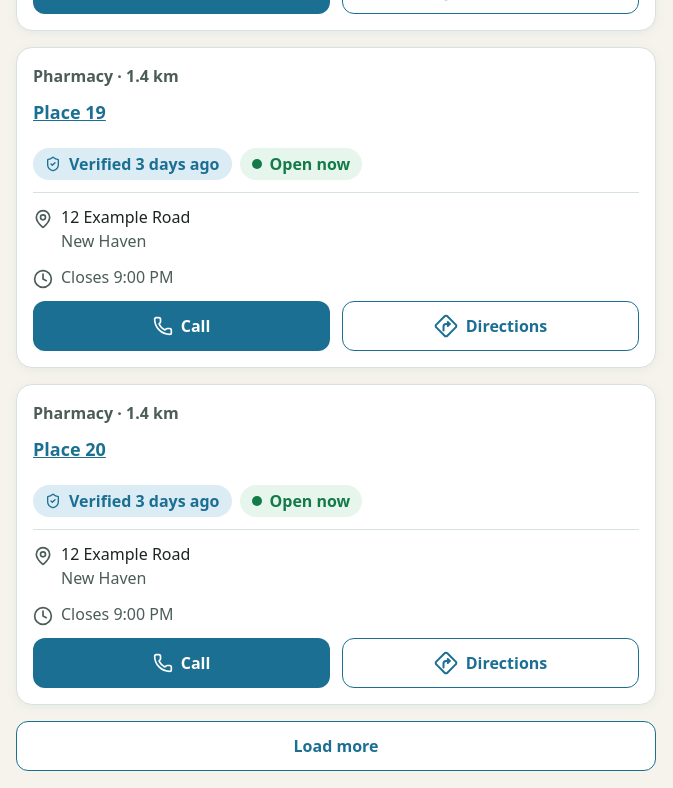
Test: the /search page › says so, and keeps the list, when Load more fails
(page scrolled)
Click the button "Load more": (336, 746) 16,721 -> 656,771
(page scrolled)
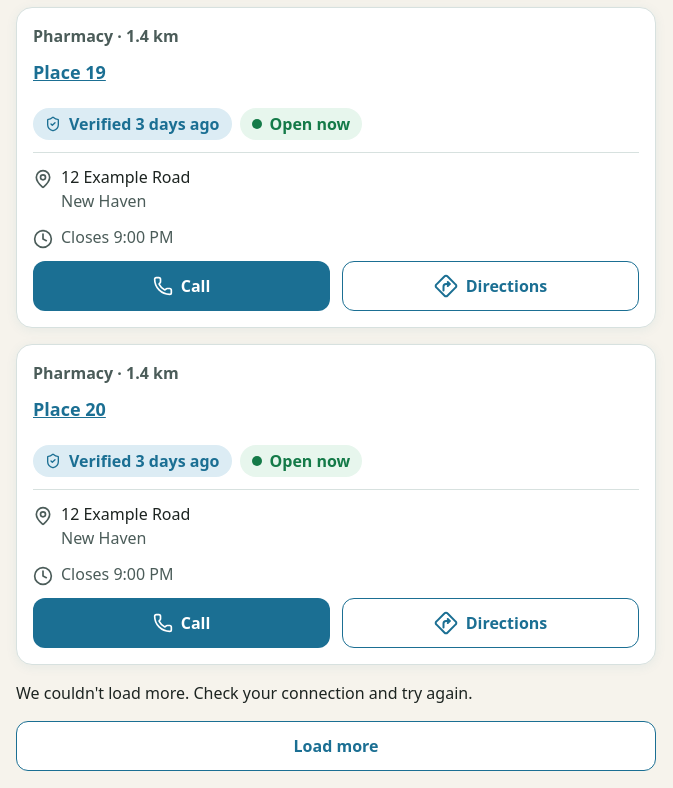
Expected: the text "We couldn't load more. Check your connection and try again." is shown, 16,682 -> 472,704
